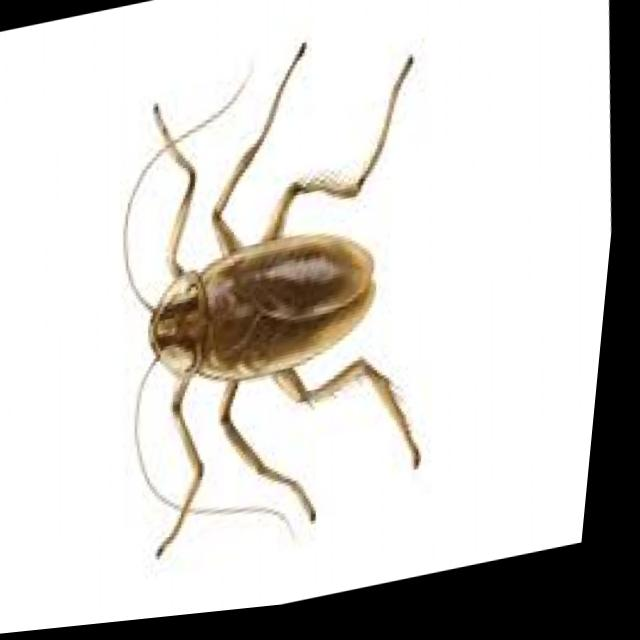Cockroach: (77, 4, 481, 599)
